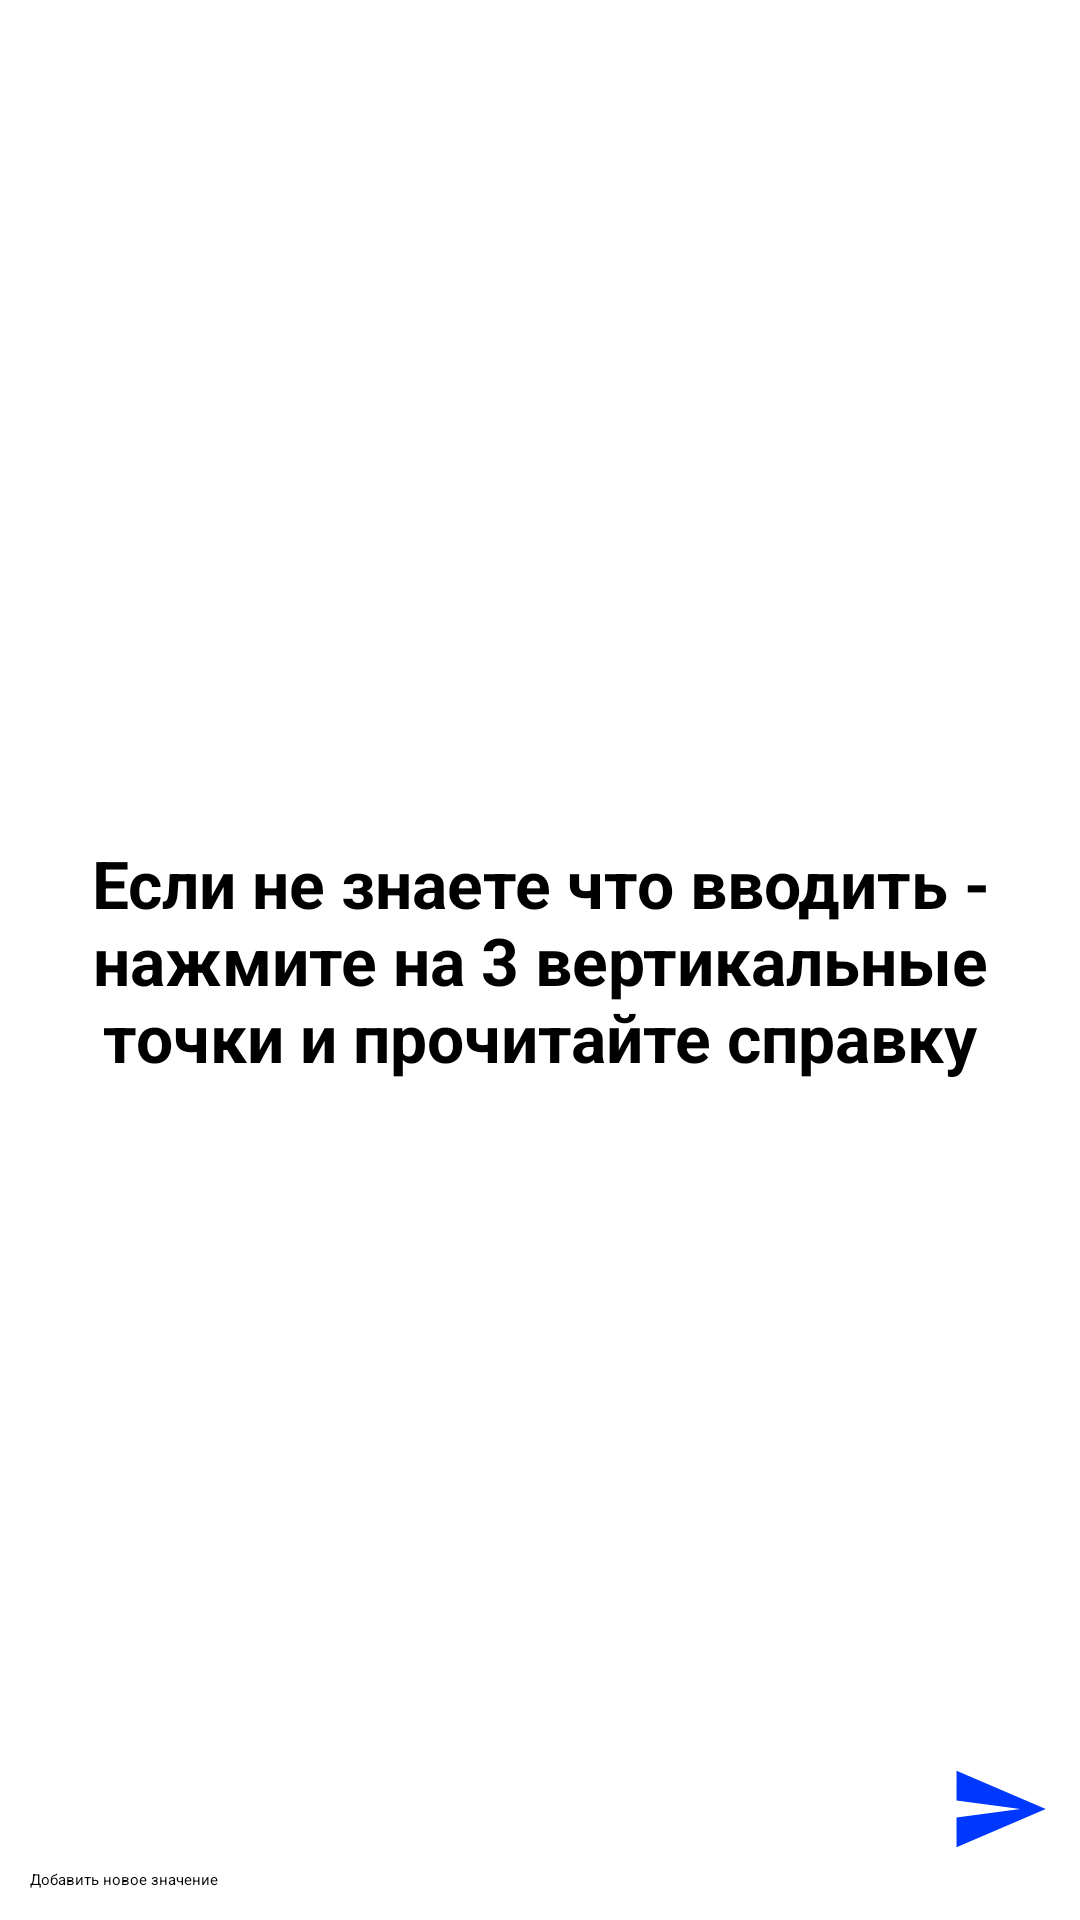

Point at icon controls on the screen. Image size 1080x1920, points as (x,y).
send: (1001,1809)
